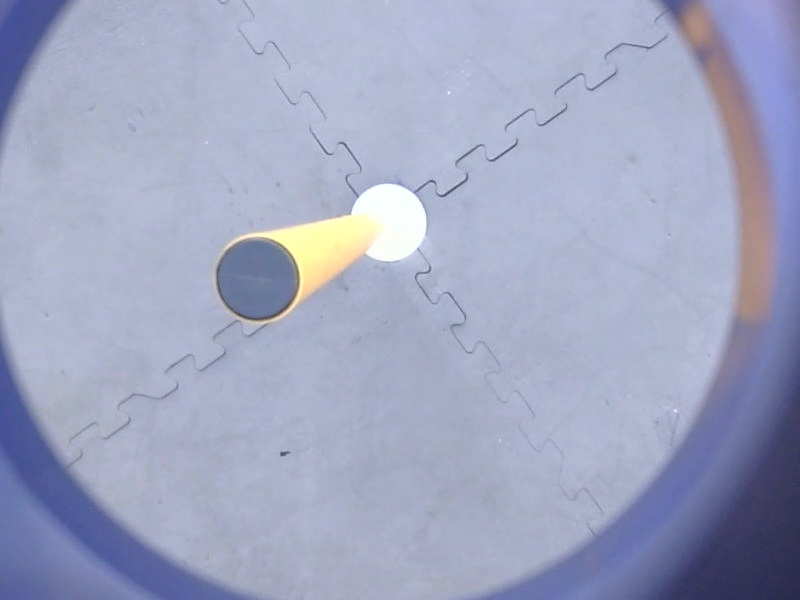tip: (207, 227, 309, 330)
